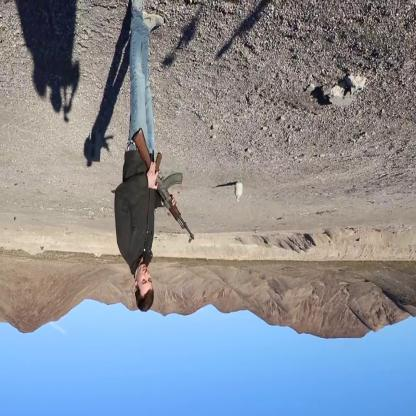long weapon: (130, 129, 200, 244)
